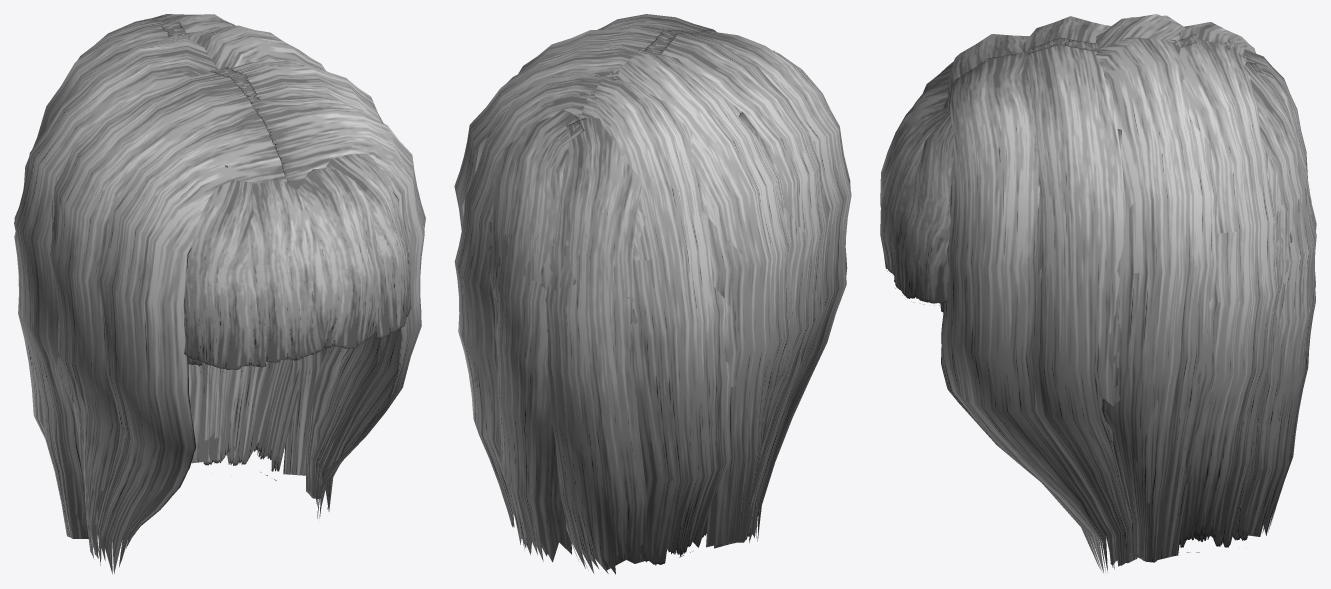
Rendered from daz_hair_hime.glb.
3 views of the same model, side by side, from view 1: azimuth 30°, elevation 25°; view 2: azimuth 150°, elevation 25°; view 3: azimuth 270°, elevation 25° (orthographic). The views are drawn at different scales.
Parts seen in each view (by area): view 1: daz_hair_hime; view 2: daz_hair_hime; view 3: daz_hair_hime.
Boxes of the visible parts, <box> form: daz_hair_hime: <box>14,14,425,574</box>; daz_hair_hime: <box>454,14,851,574</box>; daz_hair_hime: <box>880,14,1316,572</box>.
Bounding box in the file's own units: 0.1771 × 0.2539 × 0.2027.
1 material, 1 textured.
